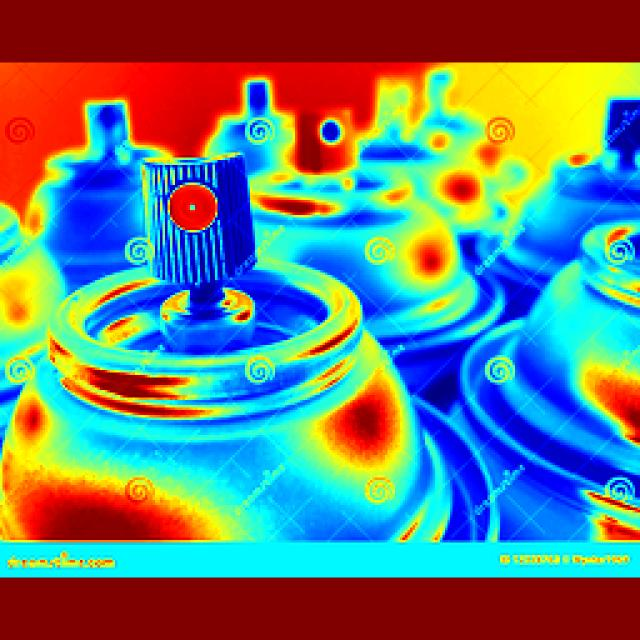Aerosol Cans: (36, 153, 431, 554)
